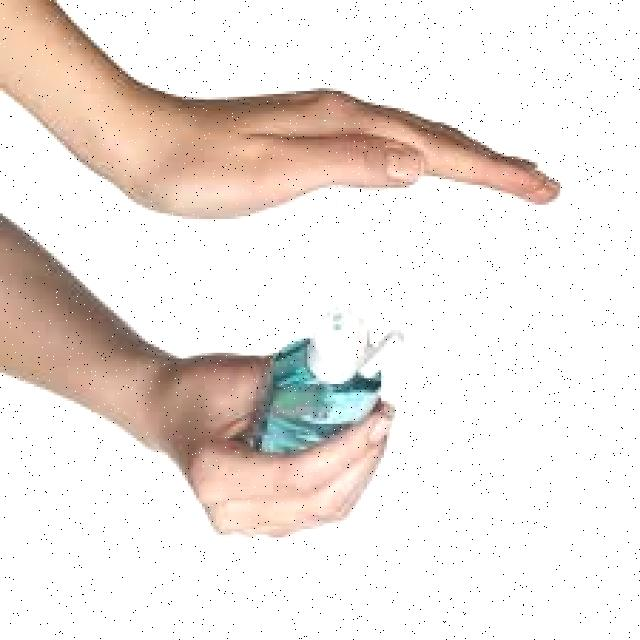liquid soap: (253, 297, 410, 462)
